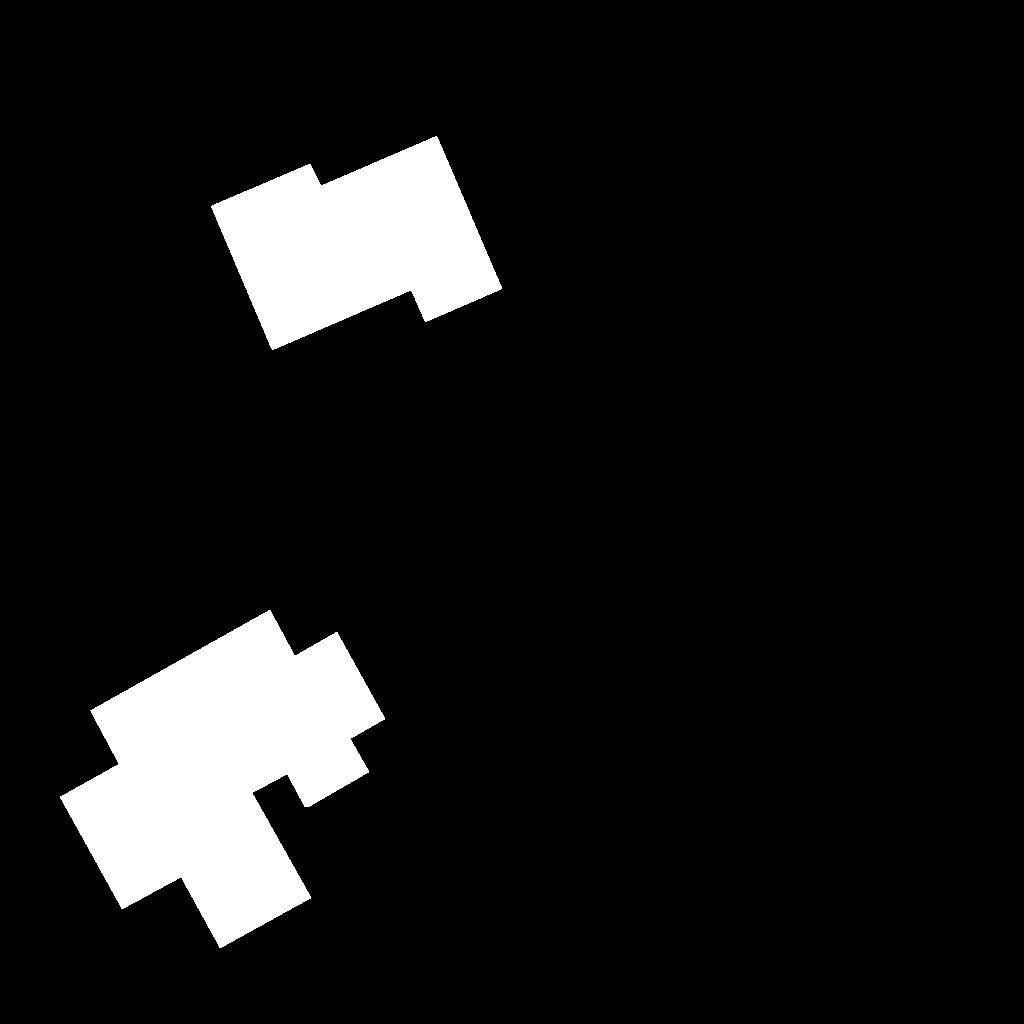building: (60, 610, 386, 949), (211, 136, 503, 351)
